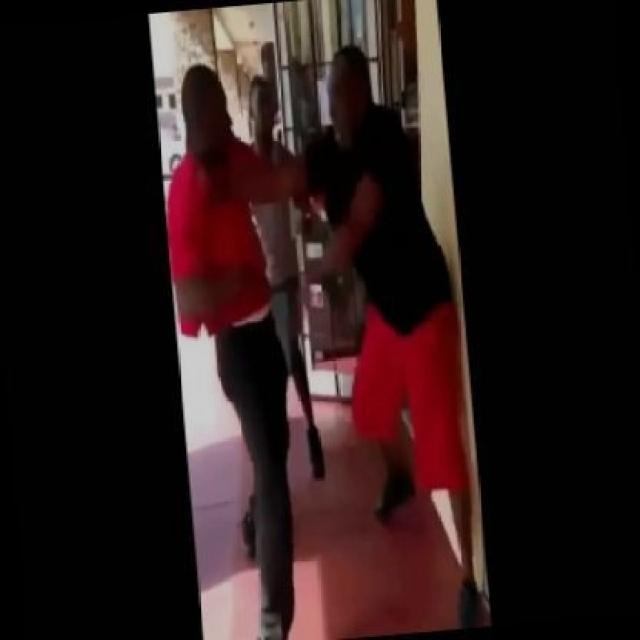fight: (275, 48, 479, 620), (165, 69, 317, 634)
